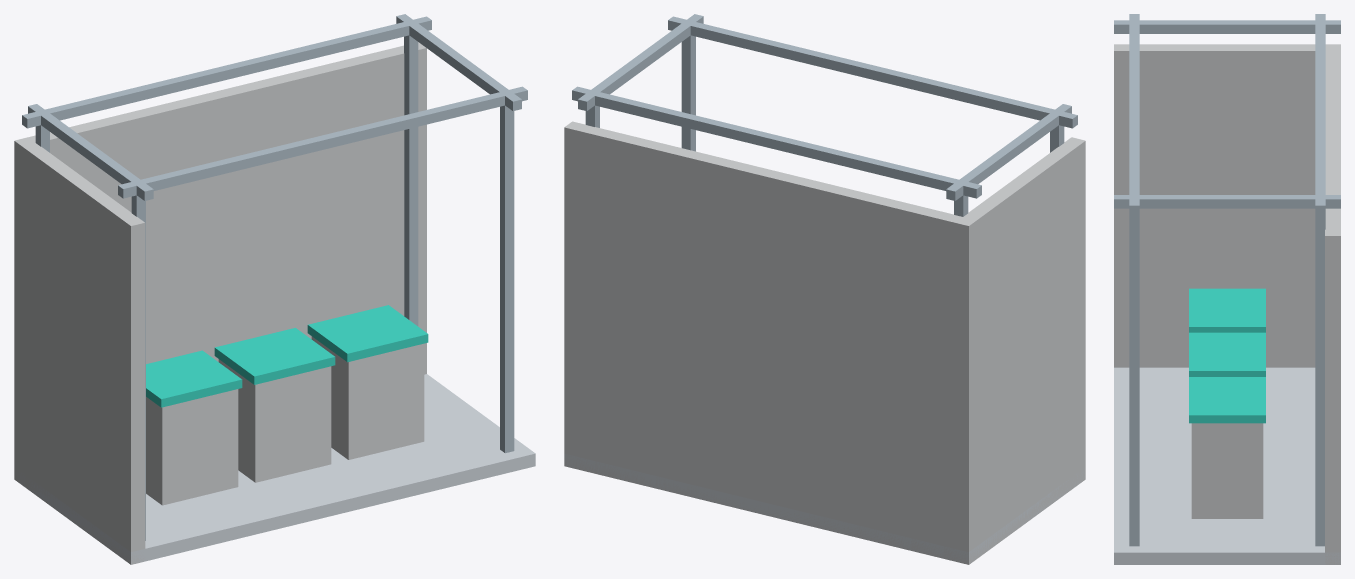
The picture shows the model from 3 angles, left to right: view 1: azimuth 30°, elevation 25°; view 2: azimuth 150°, elevation 25°; view 3: azimuth 270°, elevation 25°; orthographic projection. The views are drawn at different scales.
Visible parts, largest first — view 1: Exhibition Booth Concept; view 2: Exhibition Booth Concept; view 3: Exhibition Booth Concept.
Part boxes in pixels (x1,y1,x2,y2): Exhibition Booth Concept: (14,14,535,564); Exhibition Booth Concept: (564,14,1085,564); Exhibition Booth Concept: (1114,14,1340,564).
Size of the model in its own units: 4 by 3.49 by 2.
